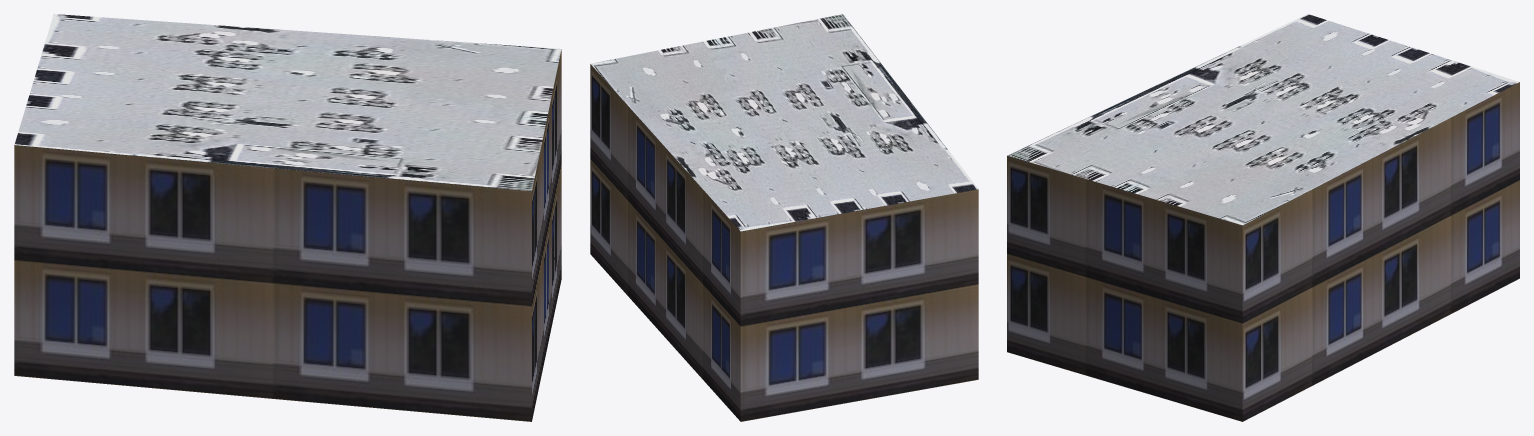
File: ResTex__161.fbx
3 renders of one model, left to right at view 1: azimuth 30°, elevation 25°; view 2: azimuth 150°, elevation 25°; view 3: azimuth 270°, elevation 25°, orthographic. The views are drawn at different scales.
Parts seen in each view (by area): view 1: CityEngineMaterial_5_m, CityEngineMaterial_m; view 2: CityEngineMaterial_5_m, CityEngineMaterial_m; view 3: CityEngineMaterial_5_m, CityEngineMaterial_m.
Part boxes in pixels (x1,y1,x2,y2): CityEngineMaterial_5_m: [14, 49, 561, 421]; CityEngineMaterial_m: [14, 14, 561, 190]; CityEngineMaterial_5_m: [590, 64, 978, 421]; CityEngineMaterial_m: [590, 14, 978, 231]; CityEngineMaterial_5_m: [1007, 82, 1519, 421]; CityEngineMaterial_m: [1007, 14, 1519, 225].
Bounding box in the file's own units: 13.84 × 6 × 14.19.
2 materials, 2 textured.
